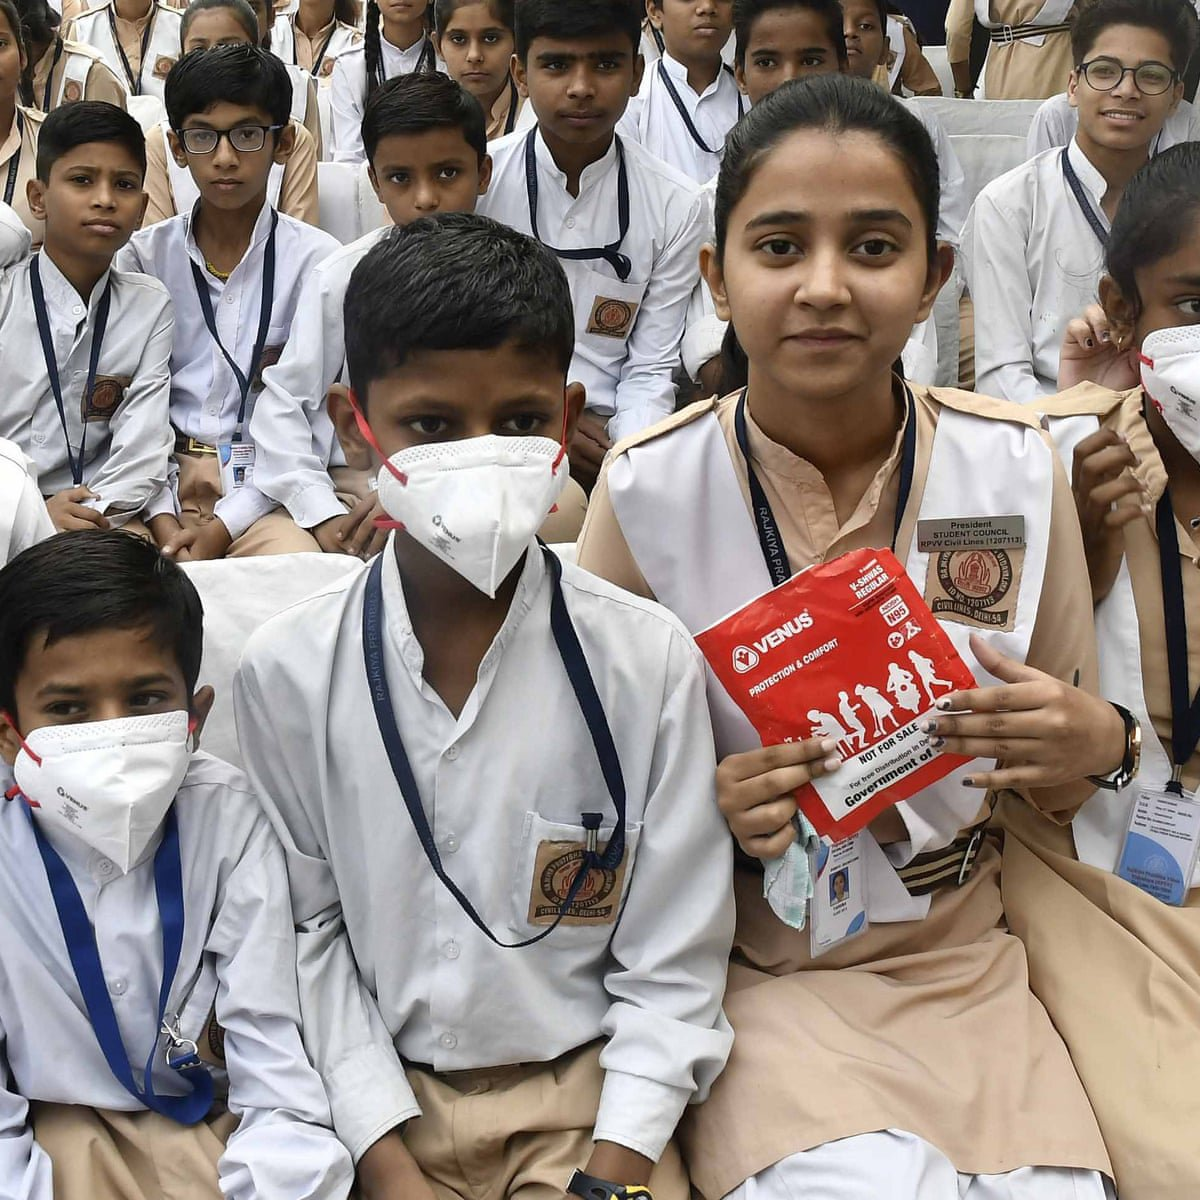mask: (340, 251, 583, 601), (6, 542, 217, 872), (1108, 156, 1193, 480)
noMask: (160, 56, 307, 215), (31, 108, 150, 273), (518, 11, 655, 146), (359, 87, 494, 216), (1066, 20, 1183, 144), (726, 8, 847, 82), (430, 5, 512, 73)
